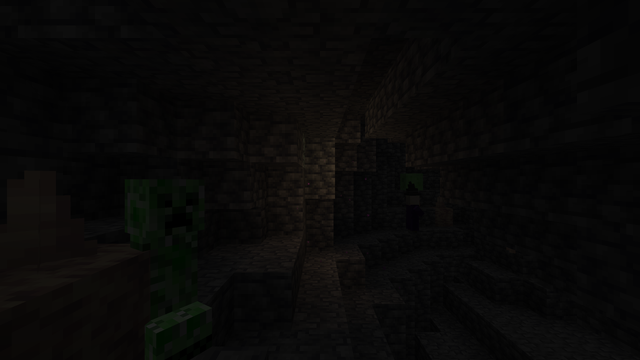creepers: (109, 170, 209, 356)
slimes: (399, 172, 422, 189)
sorcieres: (404, 193, 420, 234)
